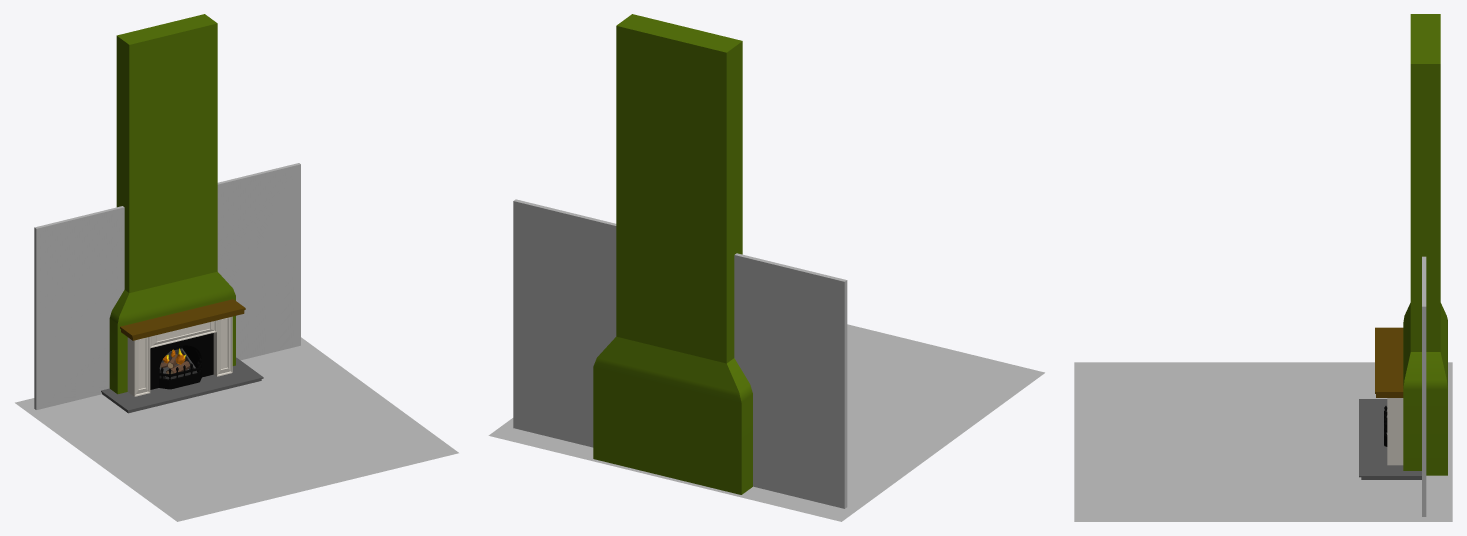
File: fireplace.fbx
3 renders of one model, left to right at view 1: azimuth 30°, elevation 25°; view 2: azimuth 150°, elevation 25°; view 3: azimuth 270°, elevation 25°, orthographic. The views are drawn at different scales.
Parts seen in each view (by area): view 1: floor_test, chimney, wall_test3, fireplace_base, fireplace_mantle, fireplace_inlay1, fireplace_l, fireplace_r, fireplace_top; view 2: chimney, wall_test3, floor_test; view 3: floor_test, chimney, fireplace_base, fireplace_mantle, wall_test3, fireplace_r.
Part boxes in pixels (x1,y1,x2,y2): floor_test: [15, 337, 458, 521]; chimney: [109, 14, 235, 394]; wall_test3: [34, 163, 300, 409]; fireplace_base: [101, 357, 263, 413]; fireplace_mantle: [120, 299, 245, 340]; fireplace_inlay1: [150, 333, 213, 389]; fireplace_l: [127, 337, 150, 396]; fireplace_r: [213, 316, 232, 376]; fireplace_top: [150, 320, 216, 348]; chimney: [593, 14, 752, 494]; wall_test3: [513, 199, 847, 508]; floor_test: [488, 324, 1044, 521]; floor_test: [1074, 362, 1452, 521]; chimney: [1403, 14, 1447, 475]; fireplace_base: [1359, 399, 1421, 479]; fireplace_mantle: [1375, 327, 1403, 397]; wall_test3: [1422, 256, 1426, 516]; fireplace_r: [1387, 398, 1403, 465].
Size of the model in its own units: 8.47 by 9.96 by 8.47.
